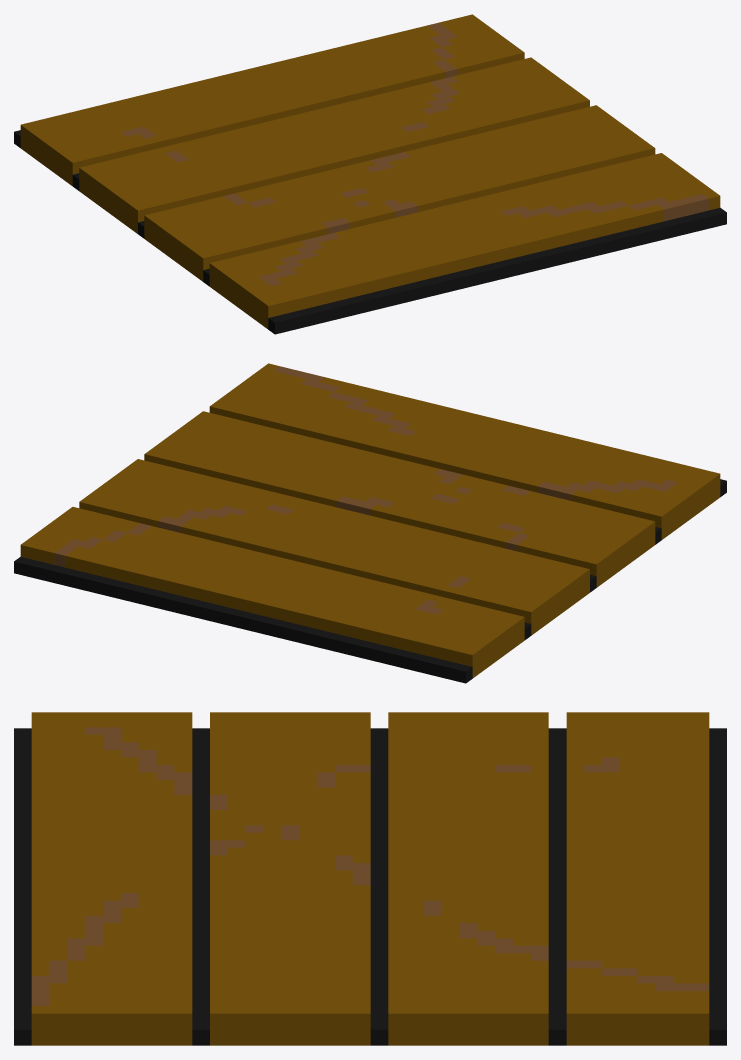
Rendered from floor.obj.
The picture shows the model from 3 angles, top to bottom: view 1: azimuth 30°, elevation 25°; view 2: azimuth 150°, elevation 25°; view 3: azimuth 270°, elevation 25°; orthographic projection. The views are drawn at different scales.
Bounding box in the file's own units: 4 × 0.2 × 4.
Materials: 1 (1 with a texture image).
